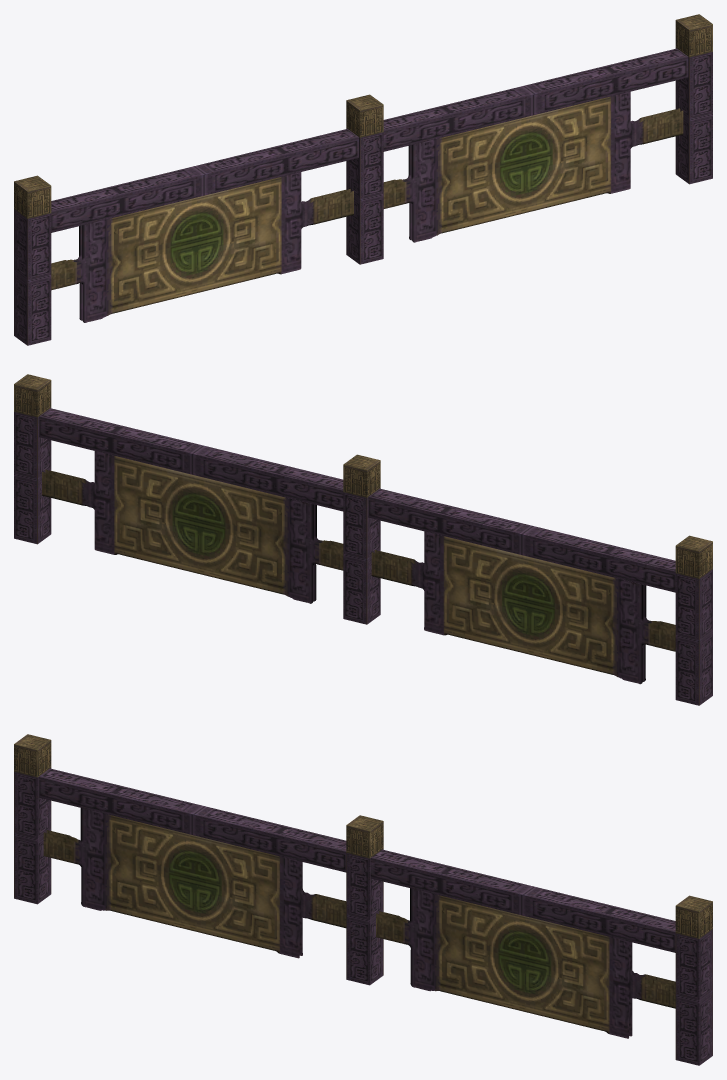
Rendered from environment_Building_zhucheng_langan_001_a.FBX.
The picture shows the model from 3 angles, top to bottom: view 1: azimuth 30°, elevation 25°; view 2: azimuth 150°, elevation 25°; view 3: azimuth 330°, elevation 25°; orthographic projection.
Visible parts, largest first — view 1: environment_Building_zhucheng_langan_001_a2, environment_Building_zhucheng_langan_001_a1; view 2: environment_Building_zhucheng_langan_001_a2, environment_Building_zhucheng_langan_001_a1; view 3: environment_Building_zhucheng_langan_001_a2, environment_Building_zhucheng_langan_001_a1.
Part boxes in pixels (x1,y1,x2,y2): environment_Building_zhucheng_langan_001_a2: (14, 94, 383, 345); environment_Building_zhucheng_langan_001_a1: (383, 14, 712, 242); environment_Building_zhucheng_langan_001_a2: (343, 454, 712, 705); environment_Building_zhucheng_langan_001_a1: (14, 374, 343, 603); environment_Building_zhucheng_langan_001_a2: (14, 734, 383, 985); environment_Building_zhucheng_langan_001_a1: (370, 849, 712, 1065).
Bounding box in the file's own units: 599 × 129 × 20.64.
Materials: 1 (1 with a texture image).
